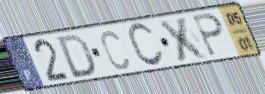2: (32, 36, 72, 85)
C: (126, 21, 166, 69), (99, 29, 132, 72)
D: (55, 32, 97, 80)
P: (191, 12, 227, 59)
X: (156, 14, 212, 63)
